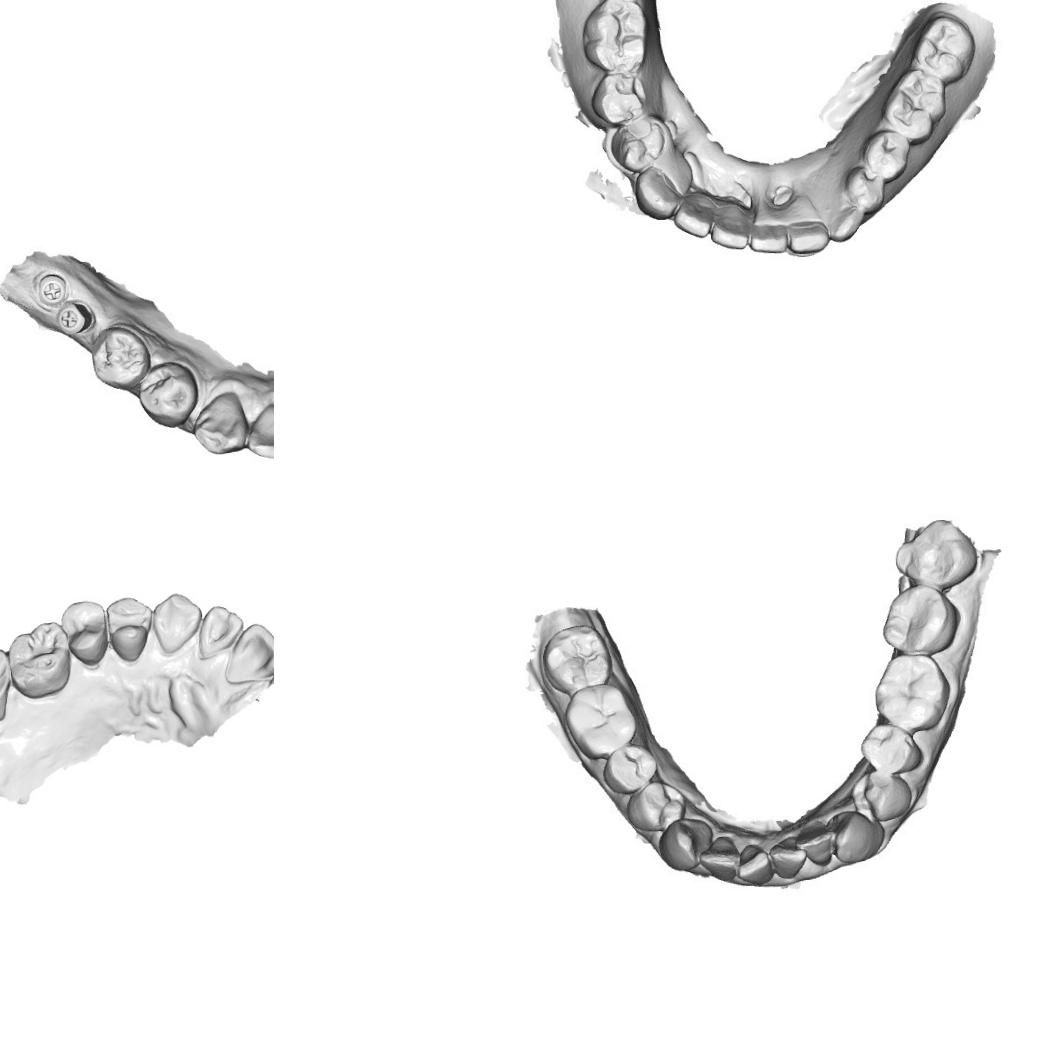canine: (192, 391, 250, 456), (149, 590, 203, 659), (637, 158, 691, 220), (834, 812, 886, 864), (659, 821, 710, 872), (822, 202, 860, 244)
implant_plus: (52, 294, 93, 340), (32, 269, 70, 309)
incisor: (222, 620, 274, 686), (196, 602, 246, 664), (710, 199, 756, 249), (702, 833, 742, 881), (749, 214, 790, 253), (769, 838, 807, 880), (247, 401, 274, 459), (790, 218, 828, 256), (800, 822, 834, 864), (678, 195, 716, 232), (736, 845, 772, 883)
molar: (875, 652, 950, 729), (5, 619, 74, 702), (882, 585, 958, 660), (898, 520, 976, 586), (567, 682, 633, 756), (580, 0, 648, 71), (543, 628, 610, 694), (910, 12, 973, 80), (885, 68, 946, 134)
premolar: (60, 598, 111, 670), (848, 764, 914, 819), (103, 595, 154, 665), (90, 324, 146, 386), (863, 726, 929, 778), (632, 784, 689, 832), (594, 70, 645, 122), (613, 114, 665, 164), (143, 367, 193, 418), (864, 132, 912, 178), (846, 168, 890, 212), (609, 747, 651, 787)
